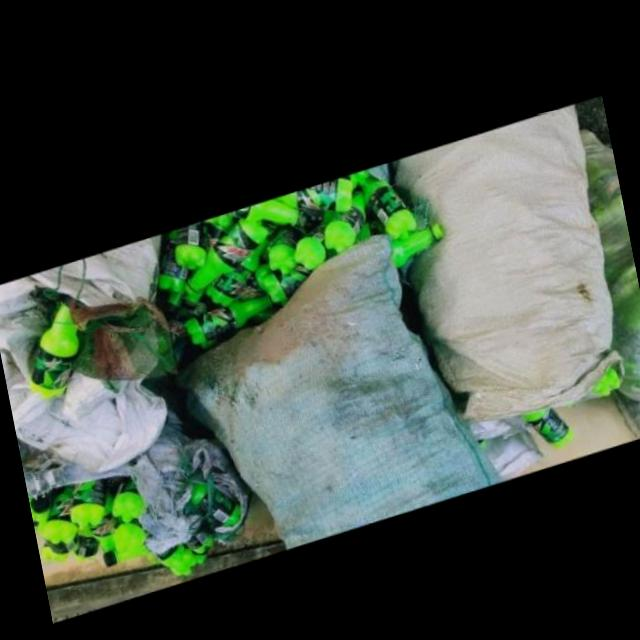chai_nhua: (181, 215, 265, 292), (27, 301, 77, 398), (181, 291, 267, 343), (203, 236, 265, 304), (357, 171, 413, 236), (269, 174, 348, 208), (321, 186, 362, 250), (387, 219, 441, 264), (518, 402, 571, 443), (221, 196, 303, 222), (40, 485, 76, 544), (68, 477, 105, 528), (264, 221, 300, 272), (171, 219, 206, 268), (109, 477, 143, 522), (290, 221, 323, 267), (111, 515, 145, 552), (101, 544, 151, 566), (73, 525, 97, 562), (589, 361, 618, 390), (43, 534, 78, 554), (156, 541, 184, 564), (184, 530, 212, 551)
